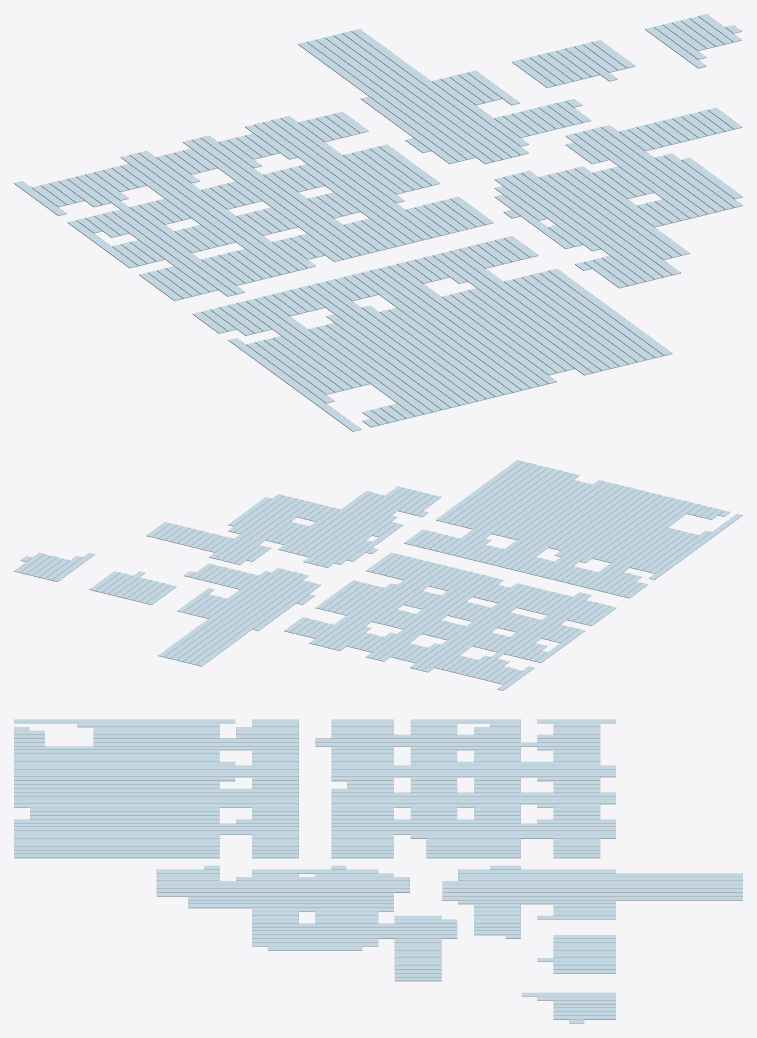
File: SM_MPR4_SolarBank_02_0_LOD1.fbx
3 views of the same model, one above another, from view 1: azimuth 30°, elevation 25°; view 2: azimuth 150°, elevation 25°; view 3: azimuth 270°, elevation 25° (orthographic). The views are drawn at different scales.
Parts seen in each view (by area): view 1: SM_MPR4_SolarBank_02_0_LOD1; view 2: SM_MPR4_SolarBank_02_0_LOD1; view 3: SM_MPR4_SolarBank_02_0_LOD1.
Part boxes in pixels (box(x1,y1,x2,y2)): SM_MPR4_SolarBank_02_0_LOD1: box(14, 14, 742, 431); SM_MPR4_SolarBank_02_0_LOD1: box(14, 460, 742, 690); SM_MPR4_SolarBank_02_0_LOD1: box(14, 719, 742, 1023).
Size of the model in its own units: 8841 by 8962 by 8.6.
